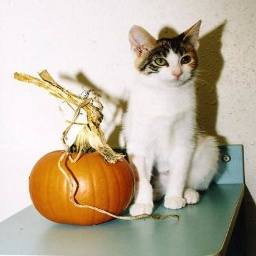cat: (110, 17, 226, 217)
